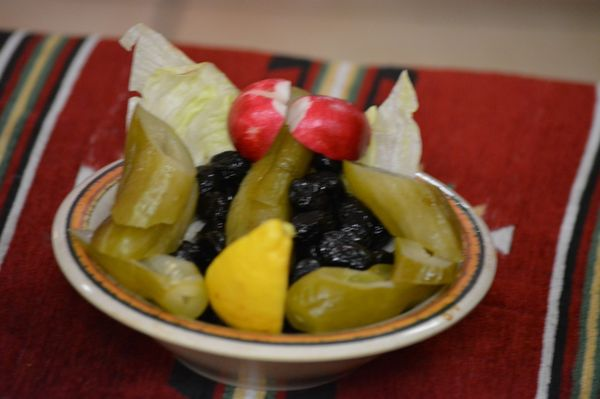pasta: (84, 107, 199, 261)
